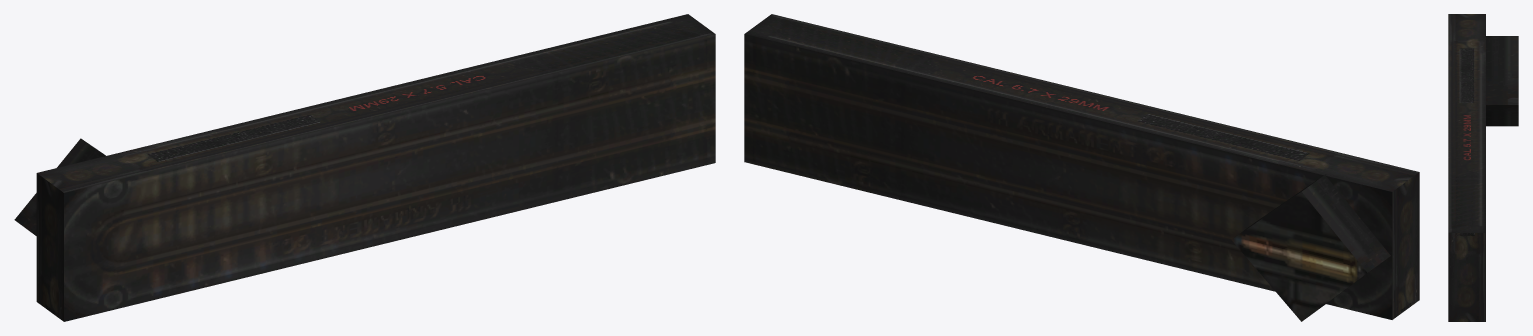
File: t6_attach_mag_pdw57_world_LOD2.obj
3 views of the same model, side by side, from view 1: azimuth 30°, elevation 25°; view 2: azimuth 150°, elevation 25°; view 3: azimuth 270°, elevation 25° (orthographic). The views are drawn at different scales.
Visible parts, largest first — view 1: mtl_t6_wpn_smg_pdw57_camo1; view 2: mtl_t6_wpn_smg_pdw57_camo1; view 3: mtl_t6_wpn_smg_pdw57_camo1.
Part boxes in pixels (x1,y1,x2,y2): mtl_t6_wpn_smg_pdw57_camo1: (14, 14, 715, 321); mtl_t6_wpn_smg_pdw57_camo1: (744, 14, 1419, 321); mtl_t6_wpn_smg_pdw57_camo1: (1448, 14, 1518, 321).
Bounding box in the file's own units: 24.1 × 4.63 × 3.27.
